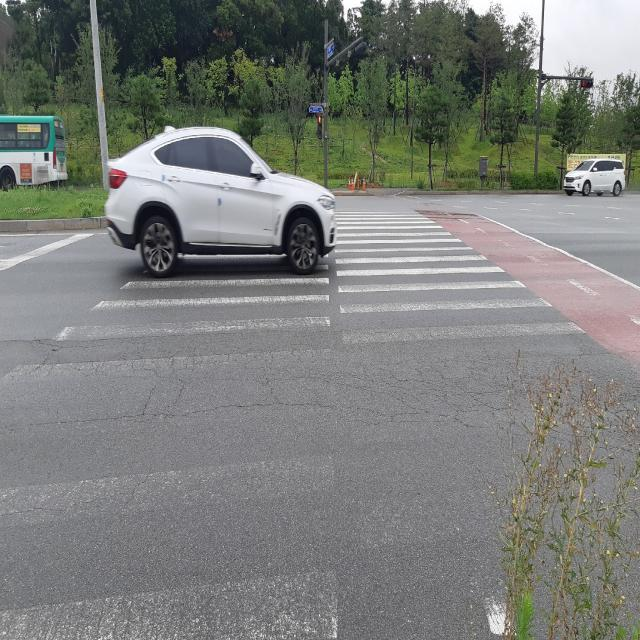빨간불: (317, 114, 323, 140)
횡단보도: (14, 208, 640, 639)
